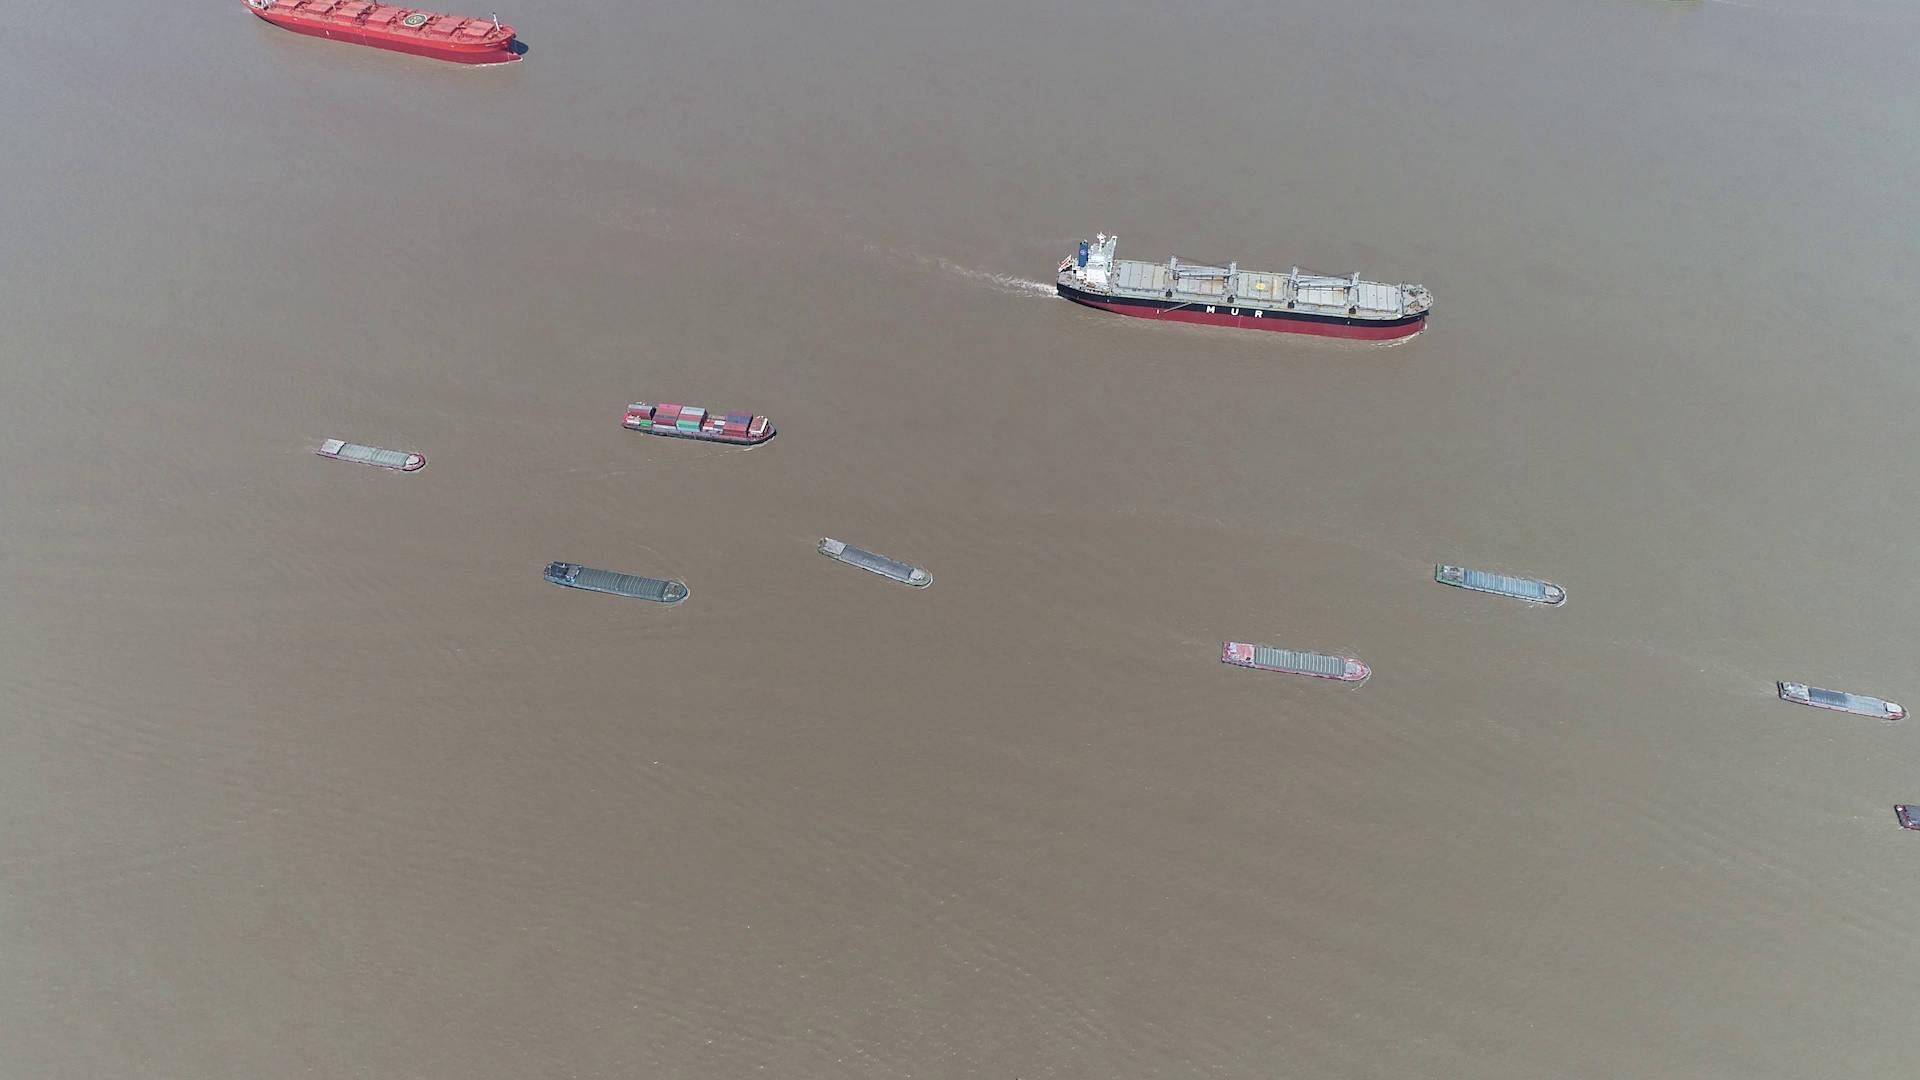ship: (1058, 237, 1437, 340), (247, 0, 525, 66), (621, 401, 777, 444), (1220, 640, 1371, 682), (545, 563, 691, 605), (820, 537, 936, 589), (1432, 564, 1567, 607), (1776, 679, 1905, 719), (316, 436, 427, 471)
